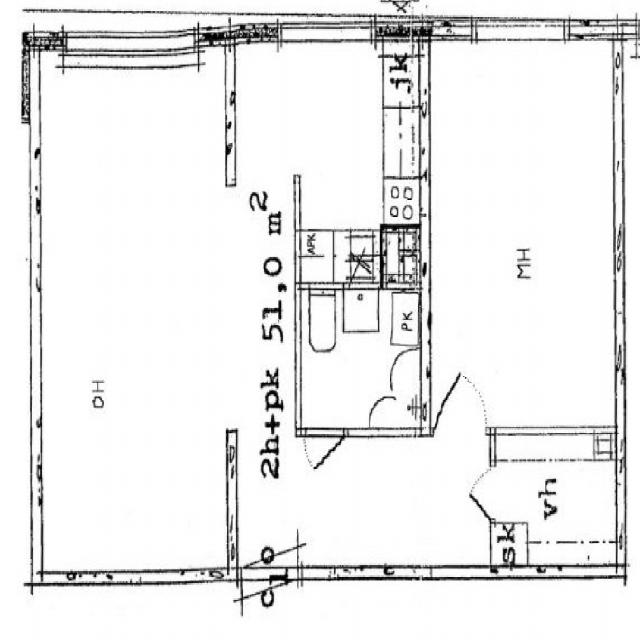door: (241, 491, 298, 579), (435, 358, 487, 437), (305, 428, 345, 490), (452, 467, 497, 519)
